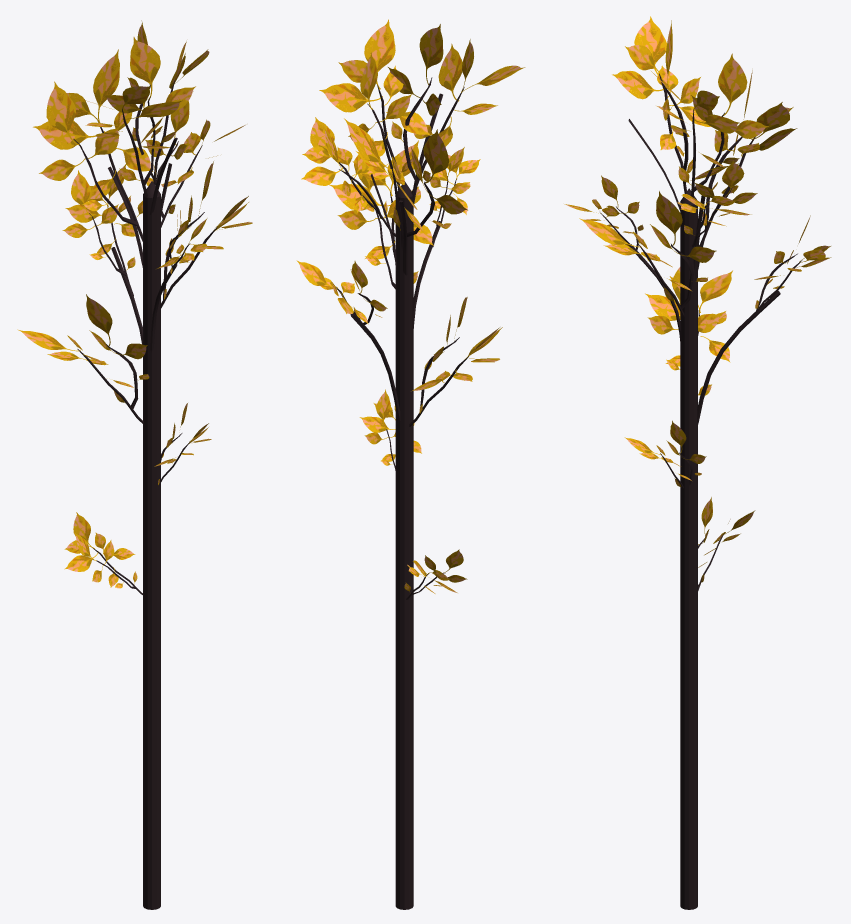
Rendered from yellowtree13.fbx.
3 renders of one model, left to right at view 1: azimuth 30°, elevation 25°; view 2: azimuth 150°, elevation 25°; view 3: azimuth 270°, elevation 25°, orthographic.
Parts seen in each view (by area): view 1: pCylinder1068; view 2: pCylinder1068; view 3: pCylinder1068.
Part boxes in pixels (x1,y1,x2,y2): pCylinder1068: (17,20,252,909); pCylinder1068: (296,19,525,909); pCylinder1068: (564,16,831,909).
Bounding box in the file's own units: 9.45 × 36 × 10.22.
